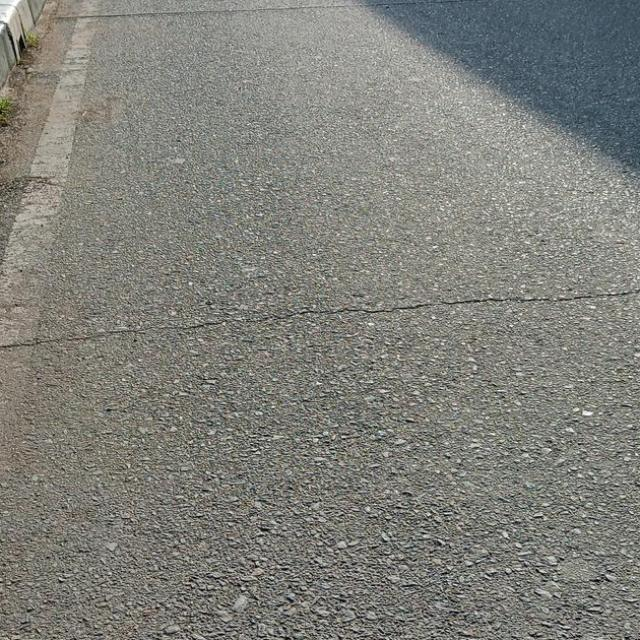Melintang: (0, 276, 640, 368)
